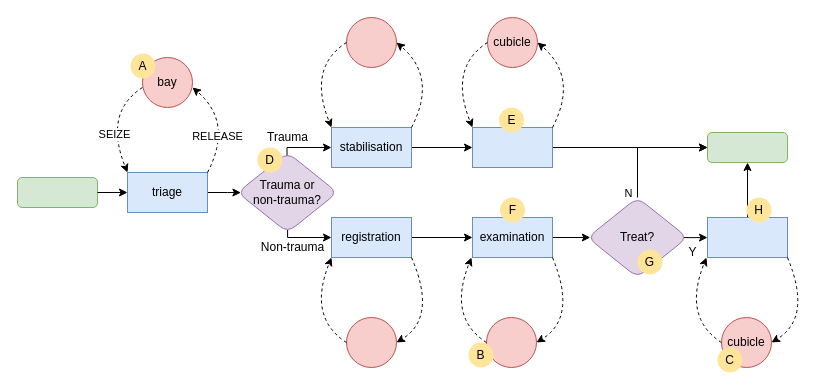
This 816x390 diagram has some shape labels left out. Here are the shapes that lost their labels. From the top down, the centre of each, then its label:
At point (371, 42): "trauma room".
At point (512, 147): "treatment".
At point (747, 147): "Discharge".
At point (57, 192): "Arrival".
At point (747, 237): "non-trauma treatment".
At point (371, 342): "clerk".
At point (511, 342): "exam room".
